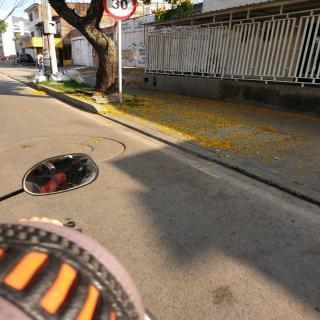Garbage: (60, 69, 85, 84), (31, 73, 51, 86), (49, 74, 62, 82)
